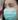with_mask: (2, 2, 18, 20)
